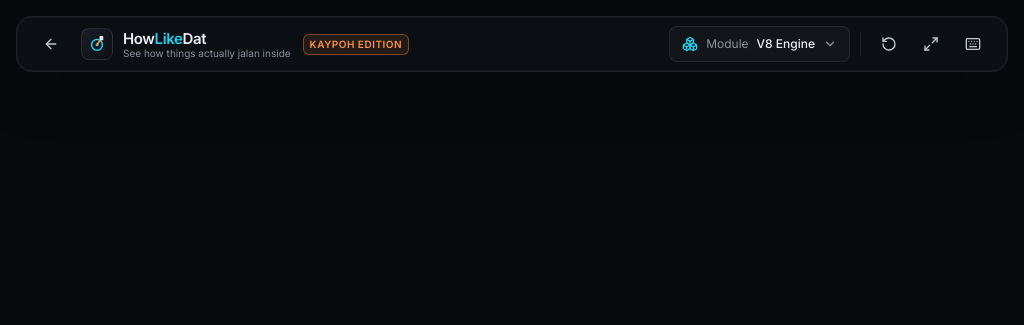
Scenario: Header shortcuts popover › opens on click and closes on Escape
Click the button named "keyboard shortcuts". click: click(973, 44)
box: left=955, top=26, right=991, bottom=62
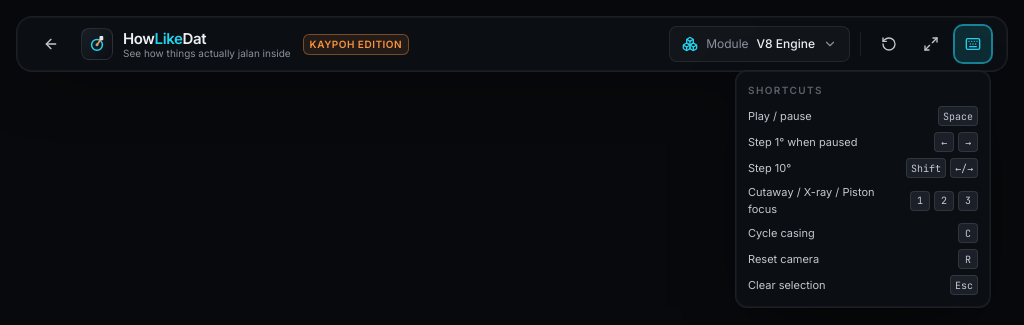
Expected: the button named "keyboard shortcuts" is expanded, left=955, top=26, right=991, bottom=62
Expected: the text "Play / pause" is shown, left=748, top=108, right=812, bottom=124
Press Escape
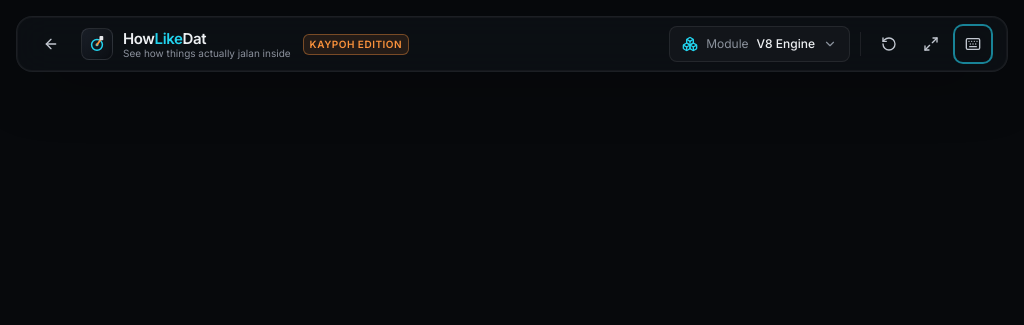
Expected: the button named "keyboard shortcuts" is collapsed, left=955, top=26, right=991, bottom=62
Expected: the text "Play / pause" is gone
